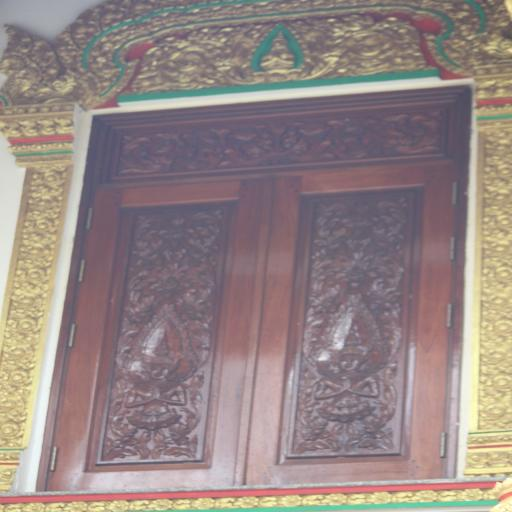than: (313, 318, 388, 450), (126, 319, 199, 451)
